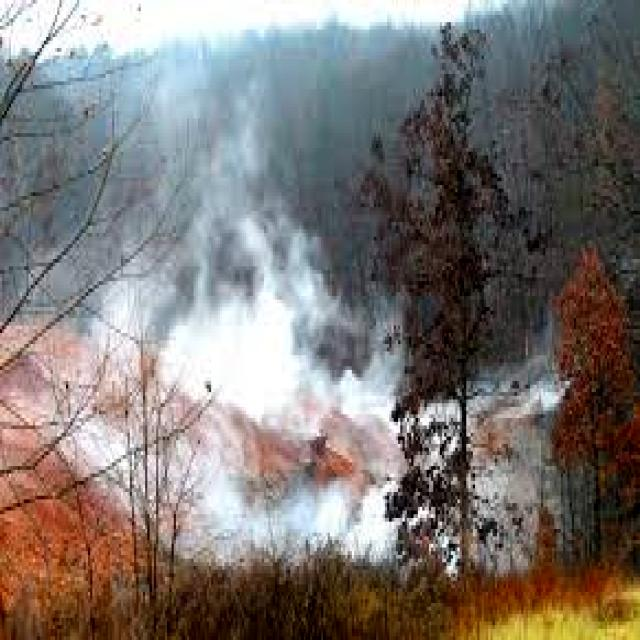no_helmet: (146, 176, 420, 548)
